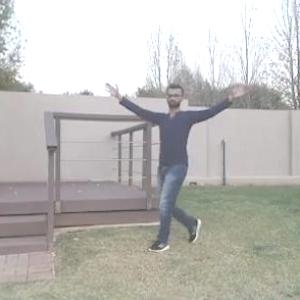takeoff: (106, 77, 252, 256)
